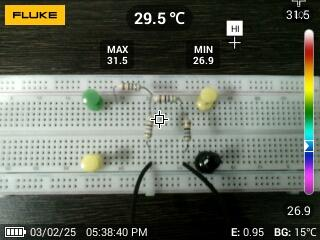resistor: (141, 115, 156, 142), (115, 80, 145, 93), (181, 117, 195, 144), (152, 92, 181, 105)
